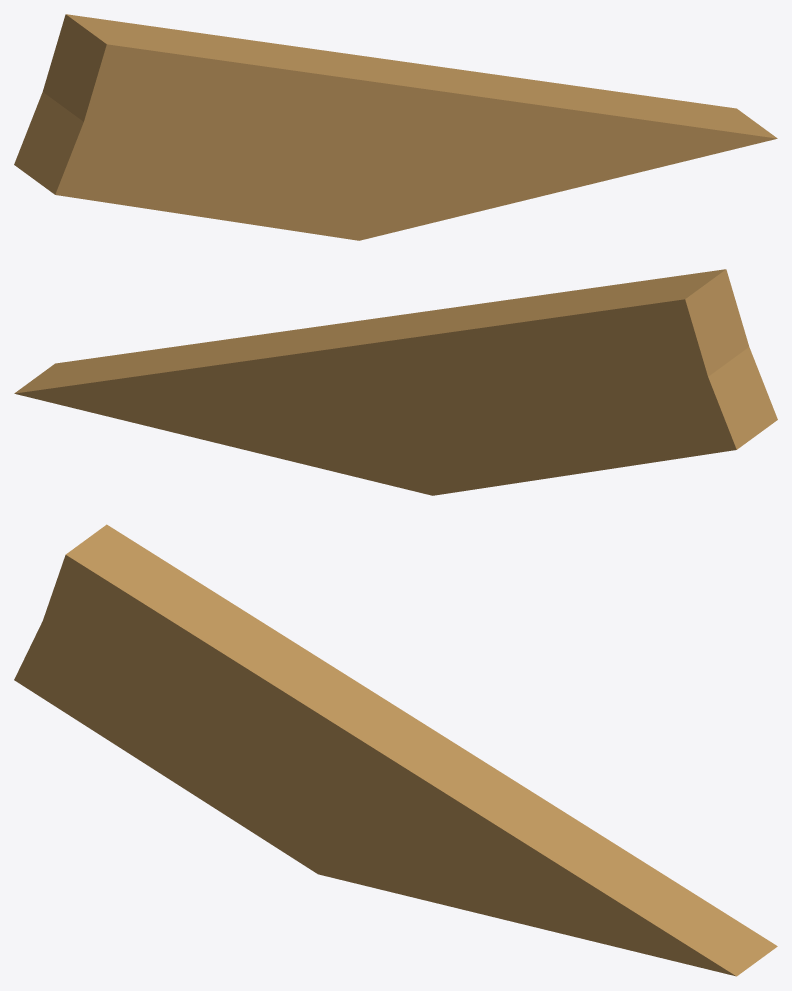
3 views of the same model, one above another, from view 1: azimuth 30°, elevation 25°; view 2: azimuth 150°, elevation 25°; view 3: azimuth 330°, elevation 25° (orthographic).
Visible parts, largest first — view 1: L4-6-S4-3E0-M05; view 2: L4-6-S4-3E0-M05; view 3: L4-6-S4-3E0-M05.
Part boxes in pixels (x1,y1,x2,y2): L4-6-S4-3E0-M05: (14, 14, 777, 240); L4-6-S4-3E0-M05: (14, 269, 777, 495); L4-6-S4-3E0-M05: (14, 524, 777, 976).
Bounding box in the file's own units: 0.4558 × 0.1555 × 0.045.
